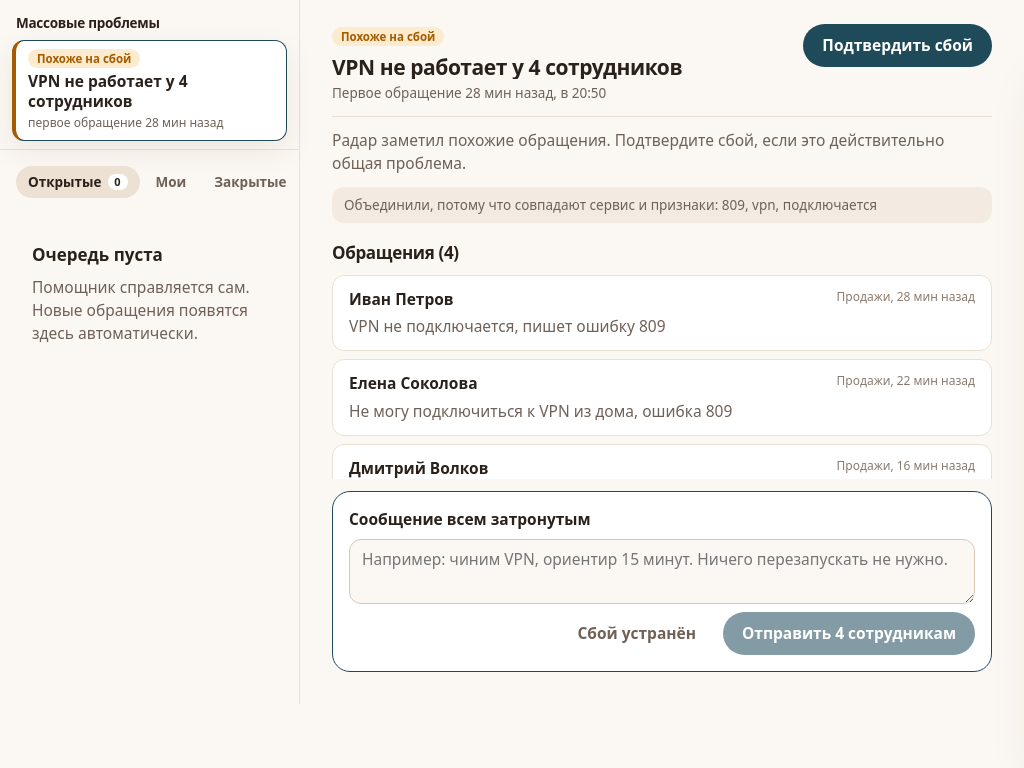
Test: OperatorPage › confirms an outage and sends one update to every affected employee
This screenshot has width=1024, height=768.
Click the button "Подтвердить сбой" at (898, 46), box [803, 24, 992, 67]
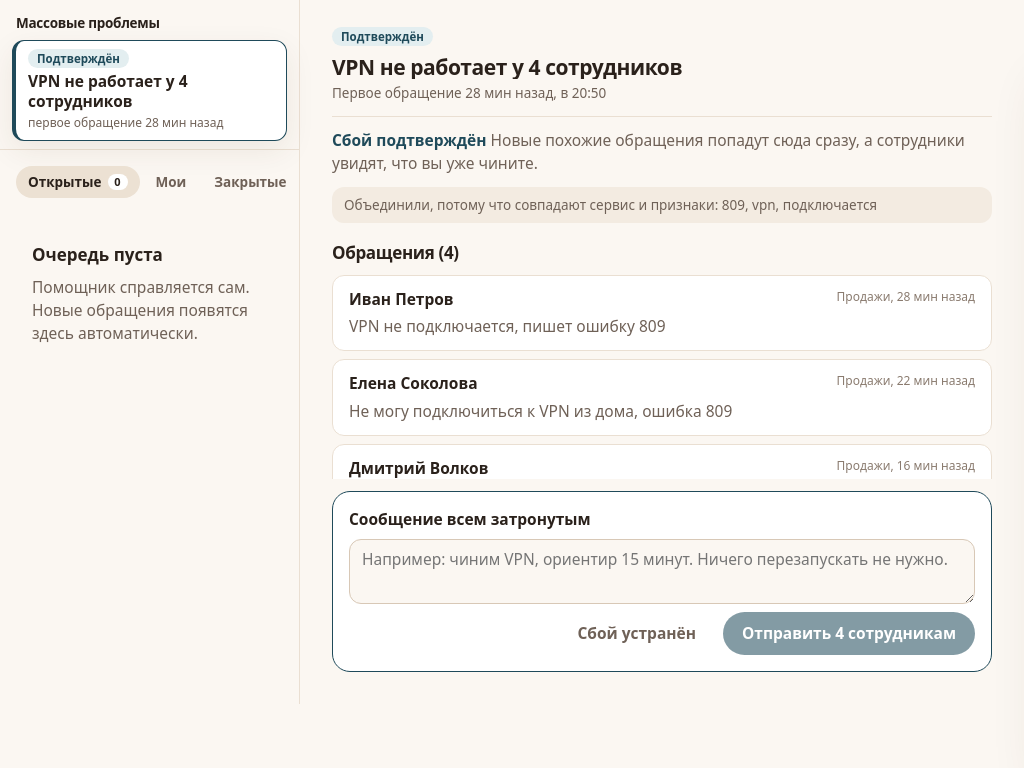
Expected: the text "Сбой подтверждён" is shown, [332, 129, 486, 151]
Type "Чиним сервер VPN" into the text box labelled "Сообщение всем затронутым" at (662, 572), box [349, 539, 975, 604]
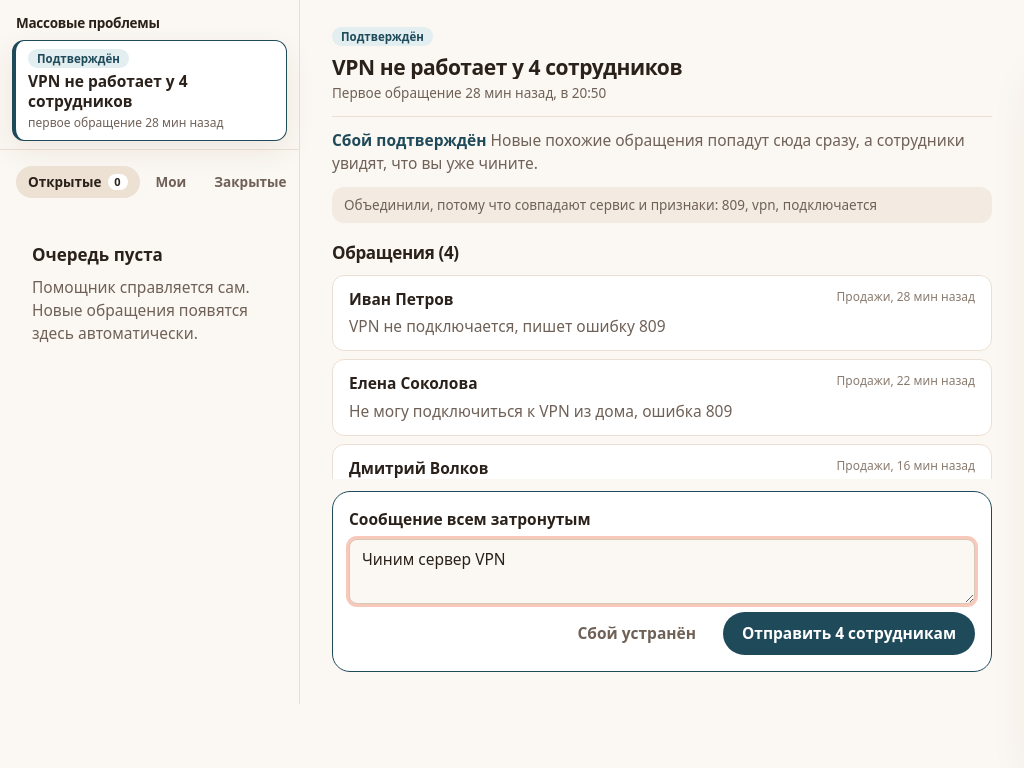
Click the button "Отправить 4 сотрудникам" at (849, 633), box [723, 612, 975, 655]
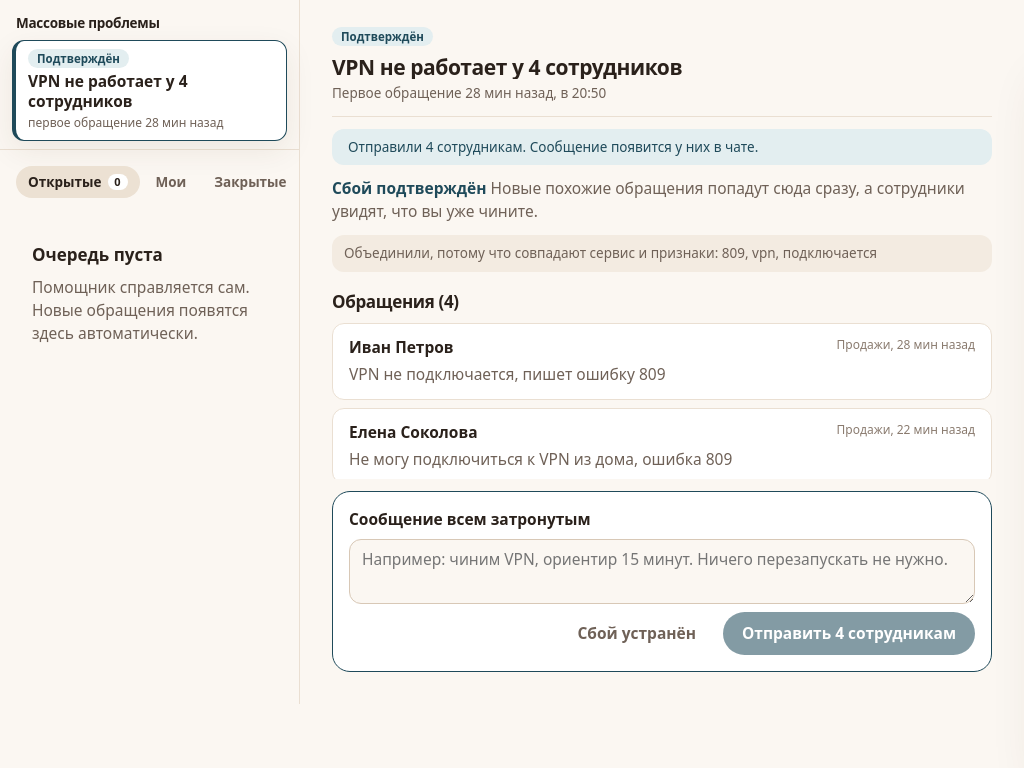
Expected: the text "Отправили 4 сотрудникам. Сообщение появится у них в чате." is shown, [332, 129, 992, 165]
